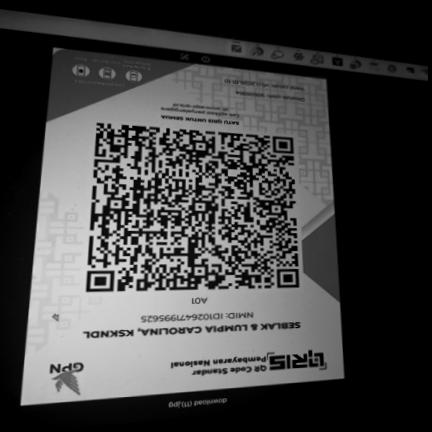Cara Pakai QRIS: (51, 48, 154, 92)
Cek Aplikasi Penyelenggara: (154, 98, 243, 119)
Dicetak Oleh: (232, 88, 307, 104)
Logo GPN: (40, 356, 90, 400)
Logo dan deskripsi QRIS: (162, 345, 330, 384)
Nama Merchant: (77, 318, 306, 342)
National Merchant ID: (135, 309, 258, 325)
QR Code: (80, 118, 303, 295)
Slogan: (154, 112, 242, 127)
Terminal ID: (188, 295, 210, 306)
Versi Cetak: (217, 75, 306, 94)
